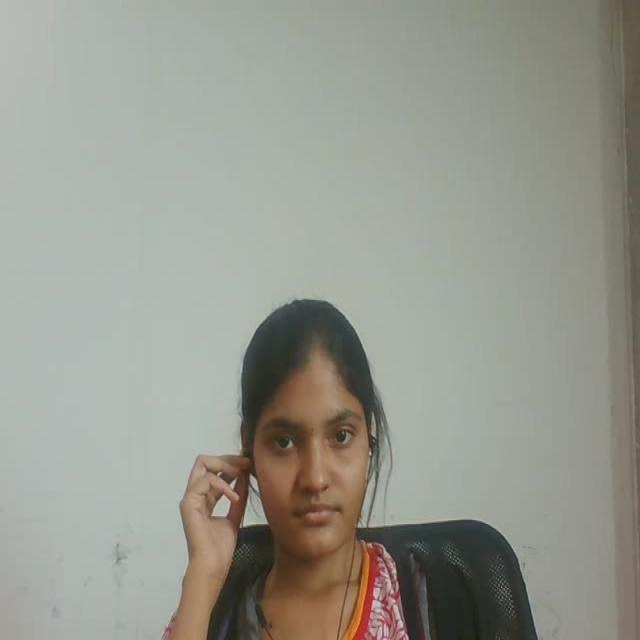Engaged: (217, 284, 433, 585)
